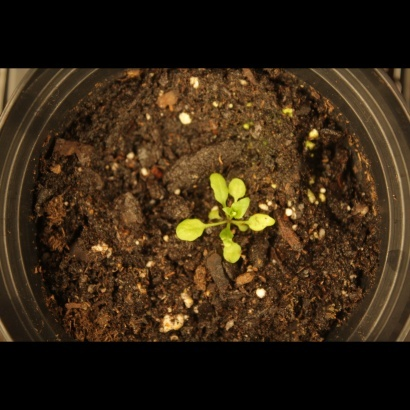leaf: (216, 227, 248, 275), (173, 216, 210, 245), (206, 169, 229, 207), (247, 209, 280, 234), (225, 178, 248, 201), (229, 197, 252, 220)
